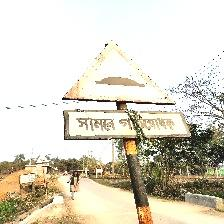Speed-breaker: (62, 40, 185, 139)
